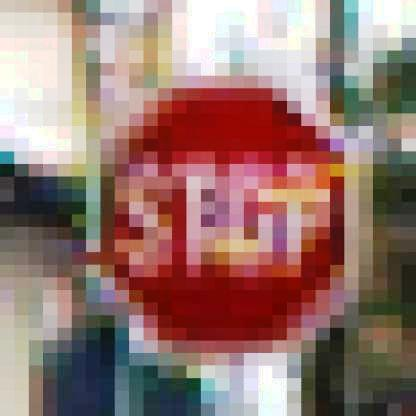Stop Sign: (94, 72, 366, 354)
